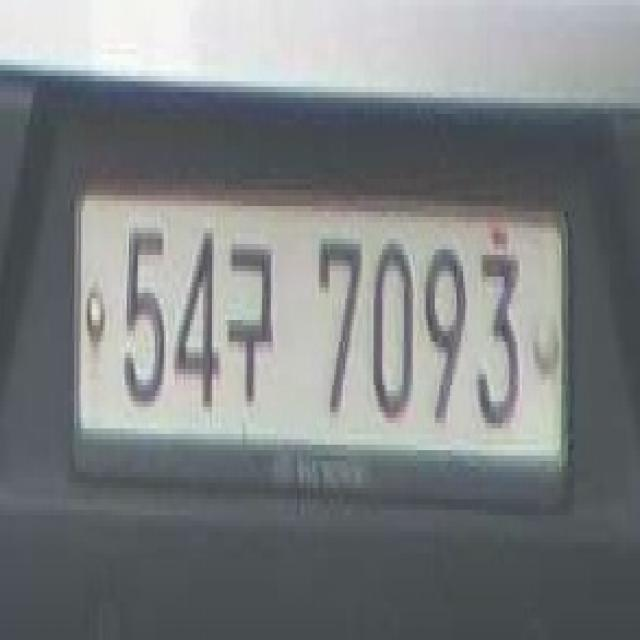0: (367, 222, 417, 434)
3: (474, 222, 524, 450)
4: (166, 195, 227, 428)
5: (116, 190, 172, 439)
7: (314, 217, 372, 428)
9: (413, 222, 467, 450)
gu: (218, 222, 280, 412)
license_plate: (70, 184, 577, 521)
